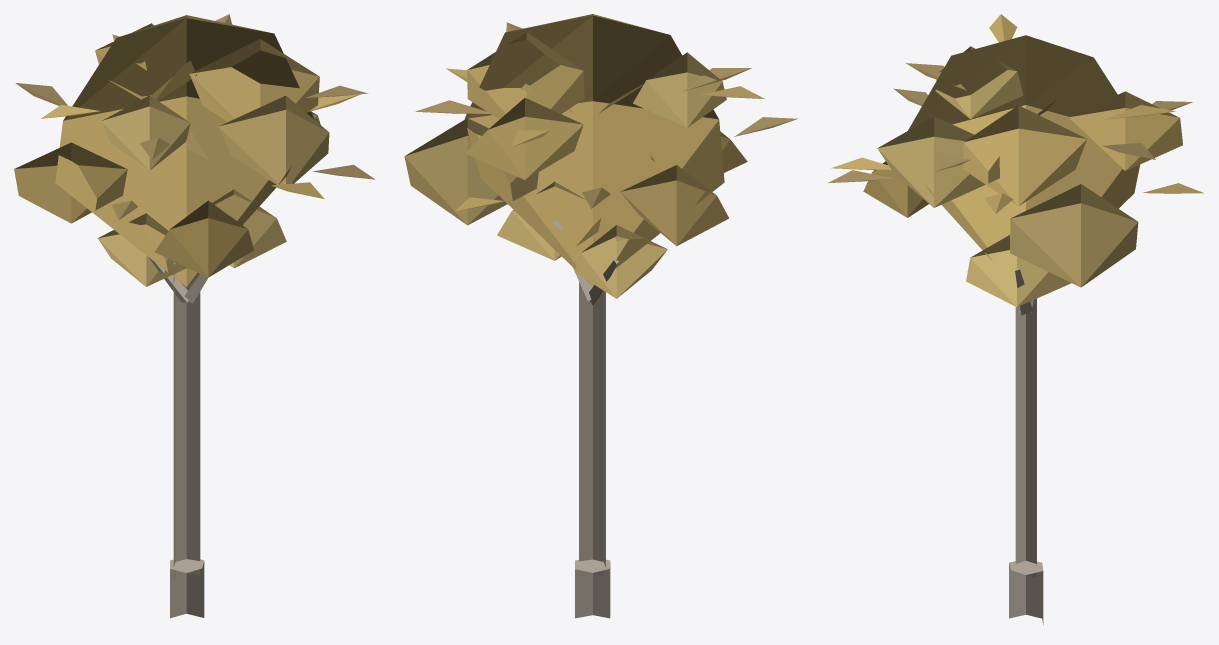
The model's file is shu.baigan__autumn.glb.
3 renders of one model, left to right at view 1: azimuth 30°, elevation 25°; view 2: azimuth 150°, elevation 25°; view 3: azimuth 270°, elevation 25°, orthographic. The views are drawn at different scales.
Parts seen in each view (by area): view 1: shu.baigan__autumn; view 2: shu.baigan__autumn; view 3: shu.baigan__autumn.
Part boxes in pixels (box(x1,y1,x2,y2)): shu.baigan__autumn: box(14, 14, 375, 618); shu.baigan__autumn: box(404, 14, 797, 618); shu.baigan__autumn: box(828, 14, 1203, 624).
Bounding box in the file's own units: 8.39 × 15.12 × 8.8.
